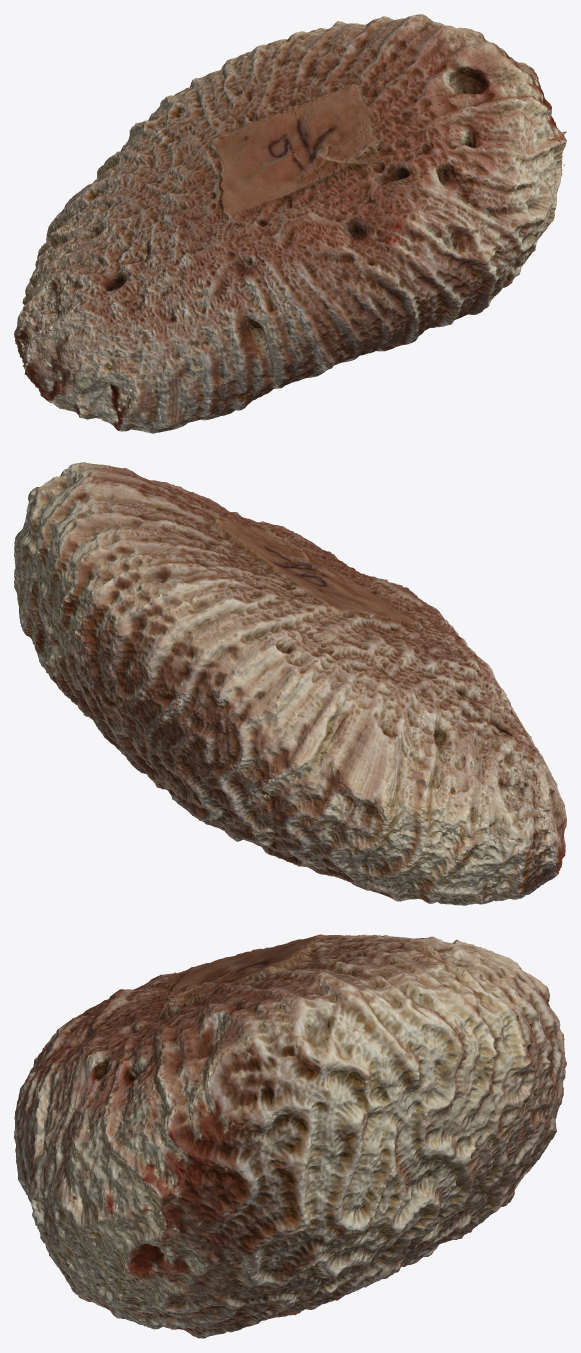
Rendered from MZUR3D-019.glb.
3 views of the same model, one above another, from view 1: azimuth 30°, elevation 25°; view 2: azimuth 150°, elevation 25°; view 3: azimuth 270°, elevation 25° (orthographic). The views are drawn at different scales.
Parts seen in each view (by area): view 1: MZUR3D-019; view 2: MZUR3D-019; view 3: MZUR3D-019.
Part boxes in pixels (box(x1,y1,x2,y2)): MZUR3D-019: box(14, 14, 566, 433); MZUR3D-019: box(14, 462, 566, 905); MZUR3D-019: box(14, 934, 566, 1338).
Size of the model in its own units: 0.6519 by 0.3803 by 0.4271.
Materials: 1 (1 with a texture image).
